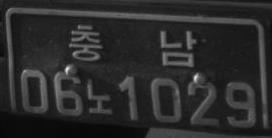0: (149, 76, 183, 124), (19, 68, 49, 114)
1: (116, 74, 143, 121)
2: (187, 79, 219, 128)
6: (52, 71, 84, 117)
9: (223, 80, 257, 128)
노: (85, 77, 113, 115)
충남_D: (69, 22, 197, 67)
